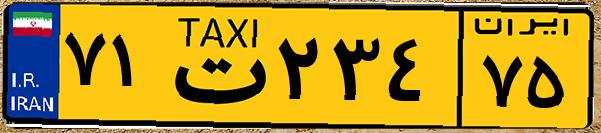1: (110, 28, 158, 98)
2: (270, 28, 330, 110)
3: (330, 28, 385, 110)
4: (385, 28, 445, 110)
5: (525, 38, 570, 115)
7: (57, 26, 110, 100), (475, 38, 525, 113)
ت: (158, 12, 270, 120)
